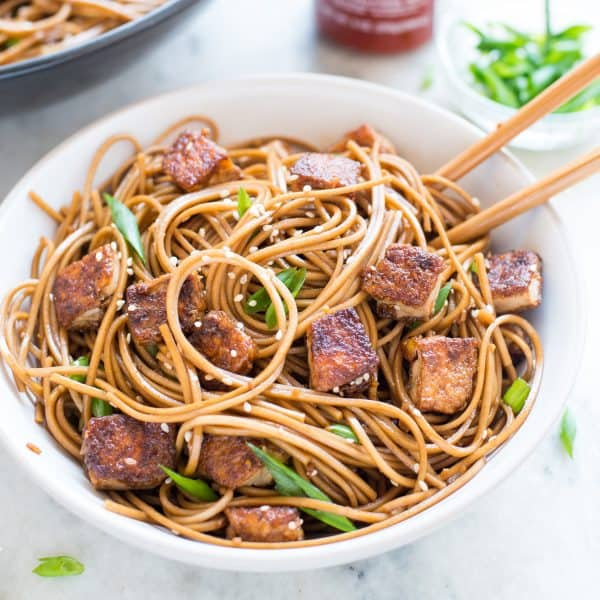Soba: (18, 120, 553, 538)
